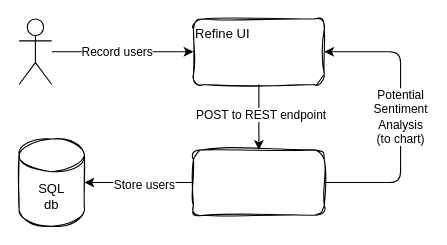
Some shapes in this 447 by 245 pixel diagram are drawn without their labels. Each missing label, with the centre of its shape:
Actor: the point at 35,51
FeathersJS Backend: the point at 258,182
